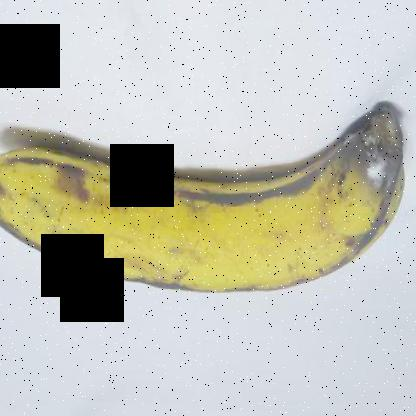ripe: (0, 84, 414, 308)
rotten: (316, 96, 404, 218)
